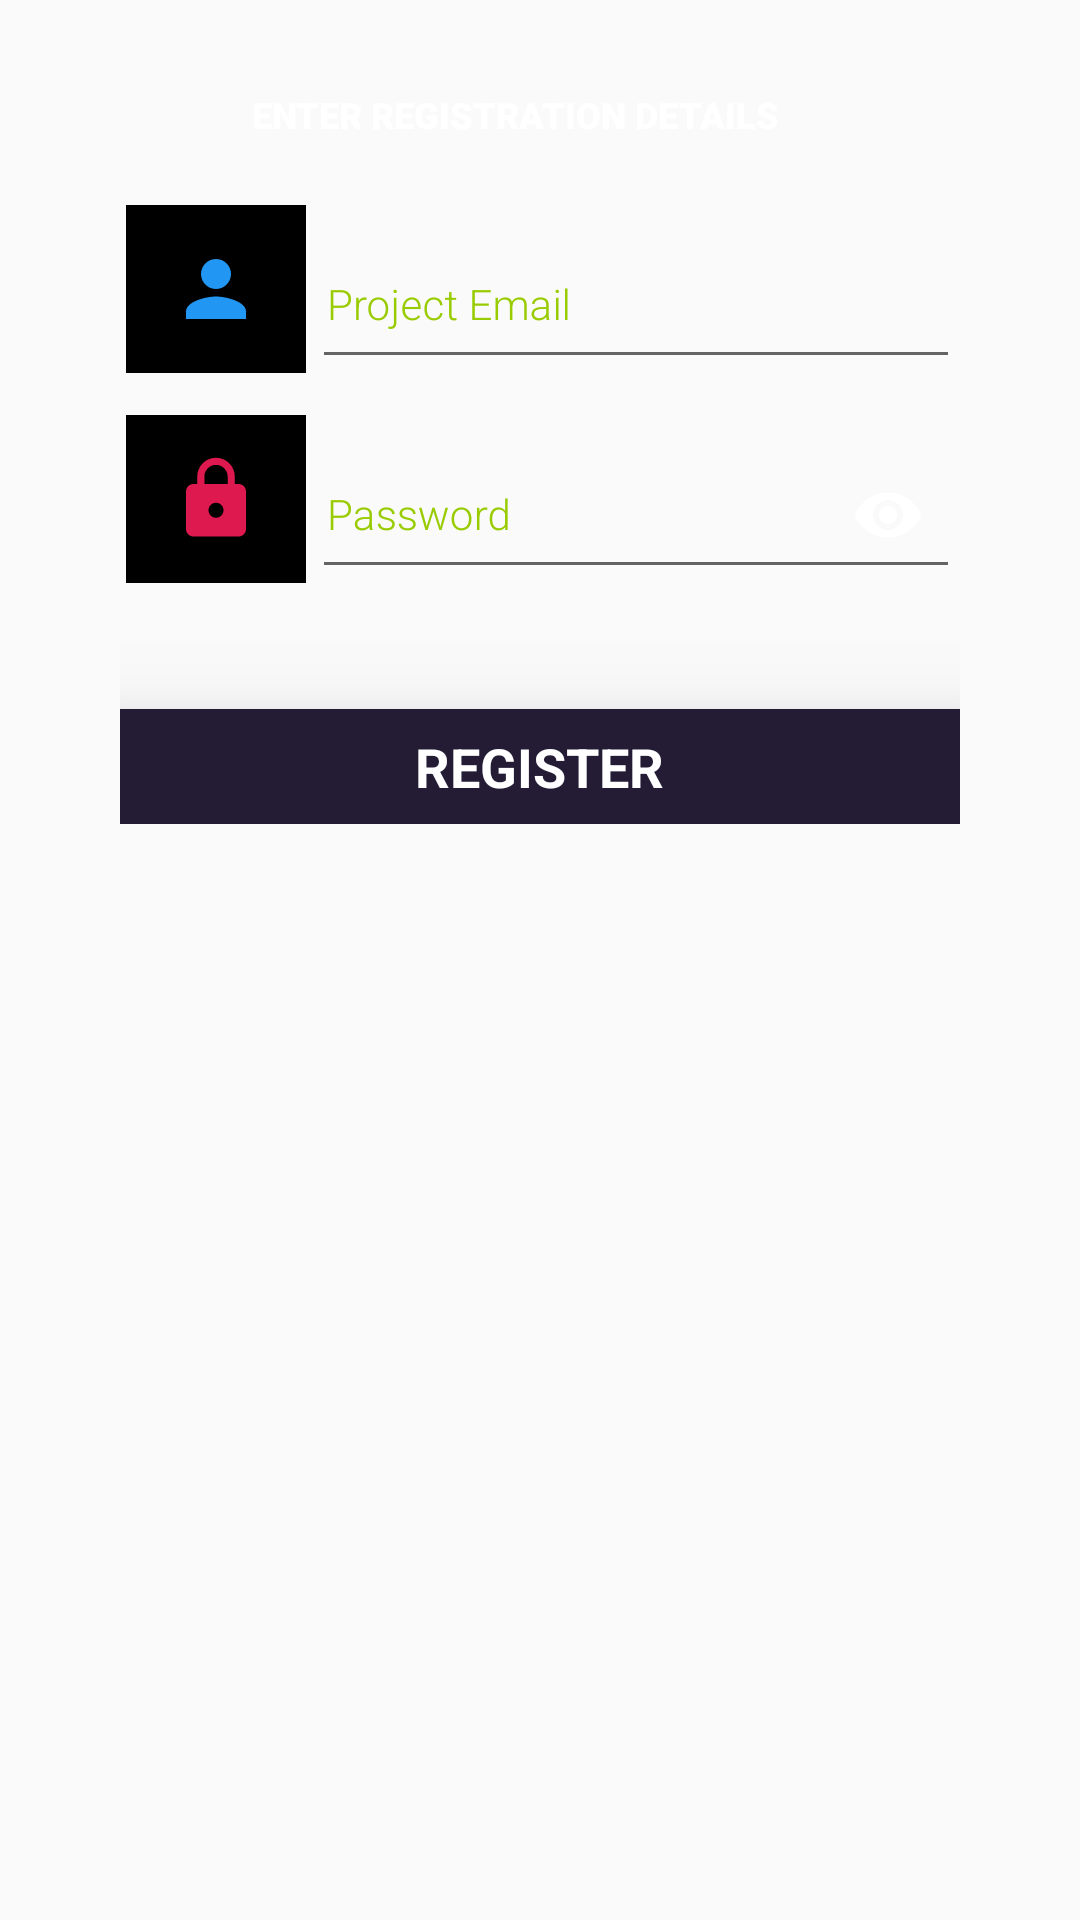

Icon click points for this 1080w x 1920h phone screenshot, format point (x, y):
lock: point (216, 499)
person: point (216, 289)
